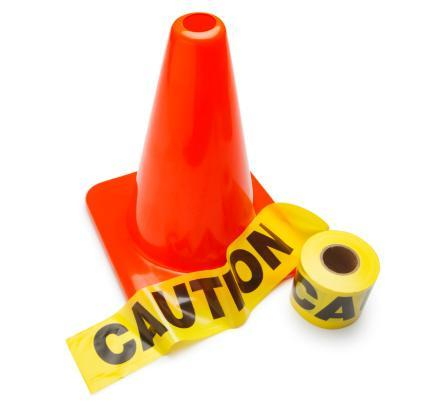Cone: (77, 10, 310, 330)
